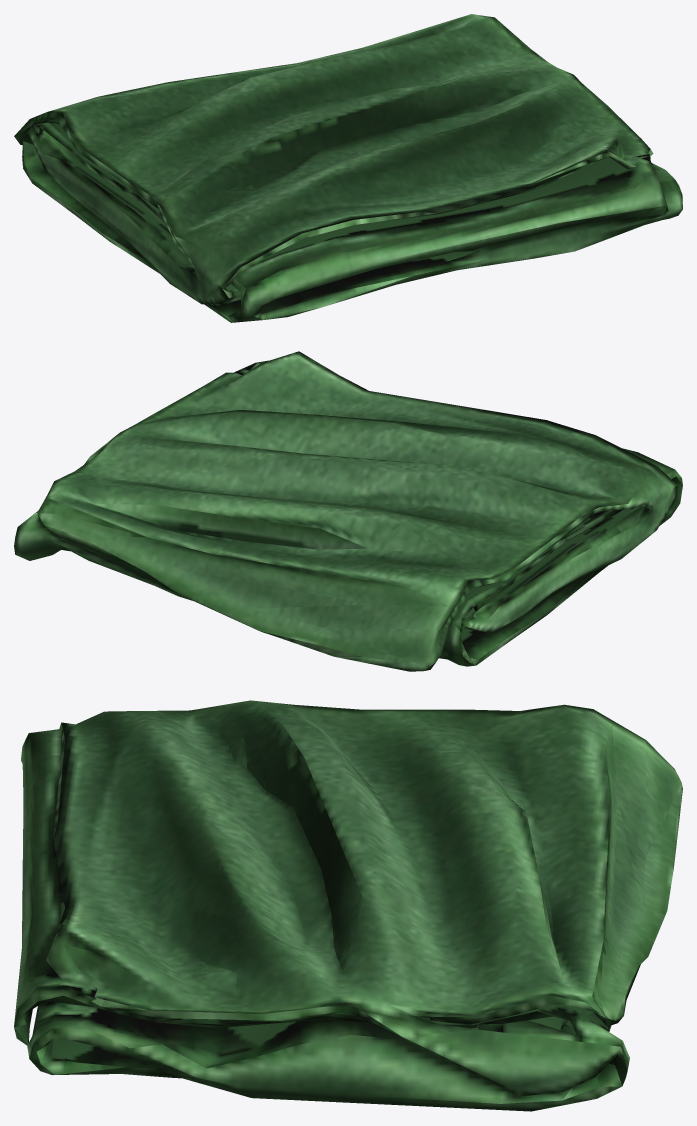
File: item_6cape3.glb
3 views of the same model, one above another, from view 1: azimuth 30°, elevation 25°; view 2: azimuth 150°, elevation 25°; view 3: azimuth 270°, elevation 25° (orthographic). The views are drawn at different scales.
Visible parts, largest first — view 1: equipment_6cape3; view 2: equipment_6cape3; view 3: equipment_6cape3.
Boxes of the visible parts, x1,y1,x2,y2 form: equipment_6cape3: (14,14,682,322); equipment_6cape3: (14,351,682,671); equipment_6cape3: (14,700,682,1111).
Bounding box in the file's own units: 1.01 × 0.2111 × 0.899.
1 material, 1 textured.
